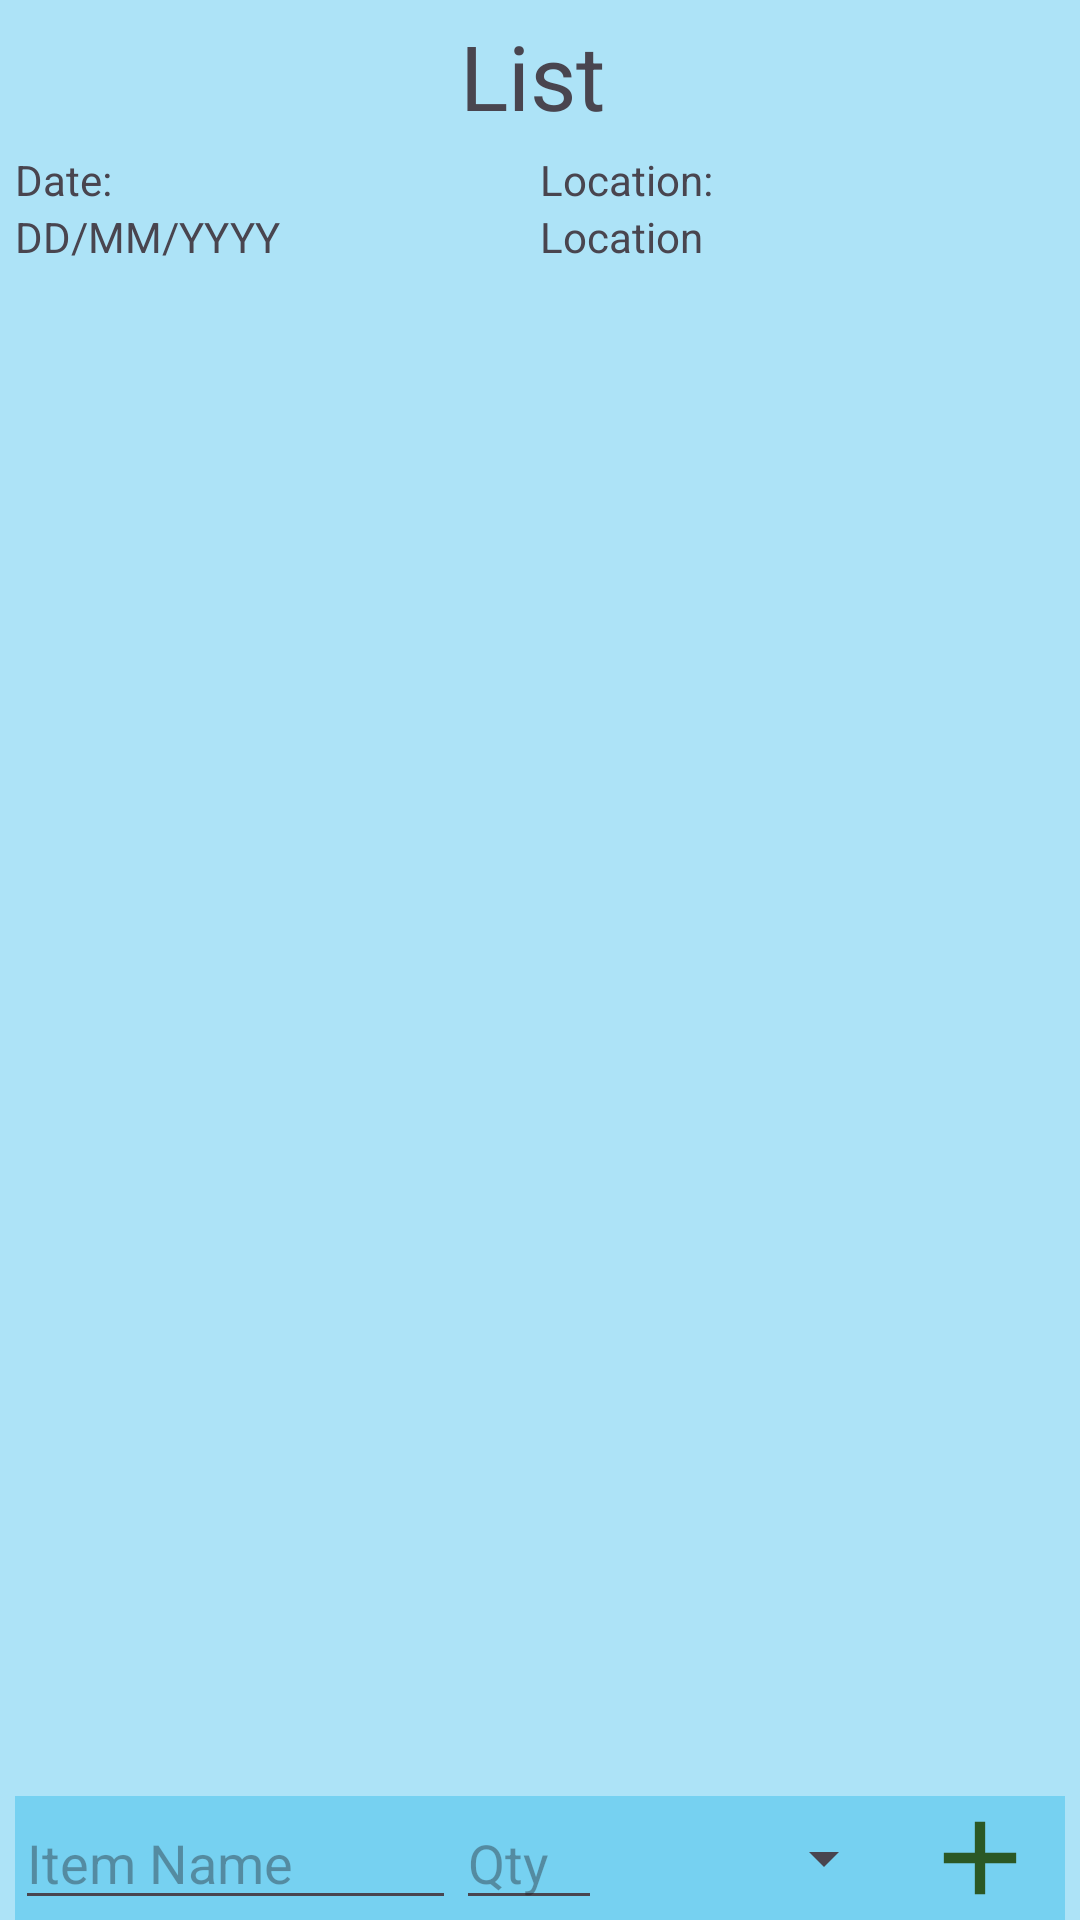

Where to tap for icons on this 1080 x 1920 app screen, as point (x, y):
add: point (980, 1858)
